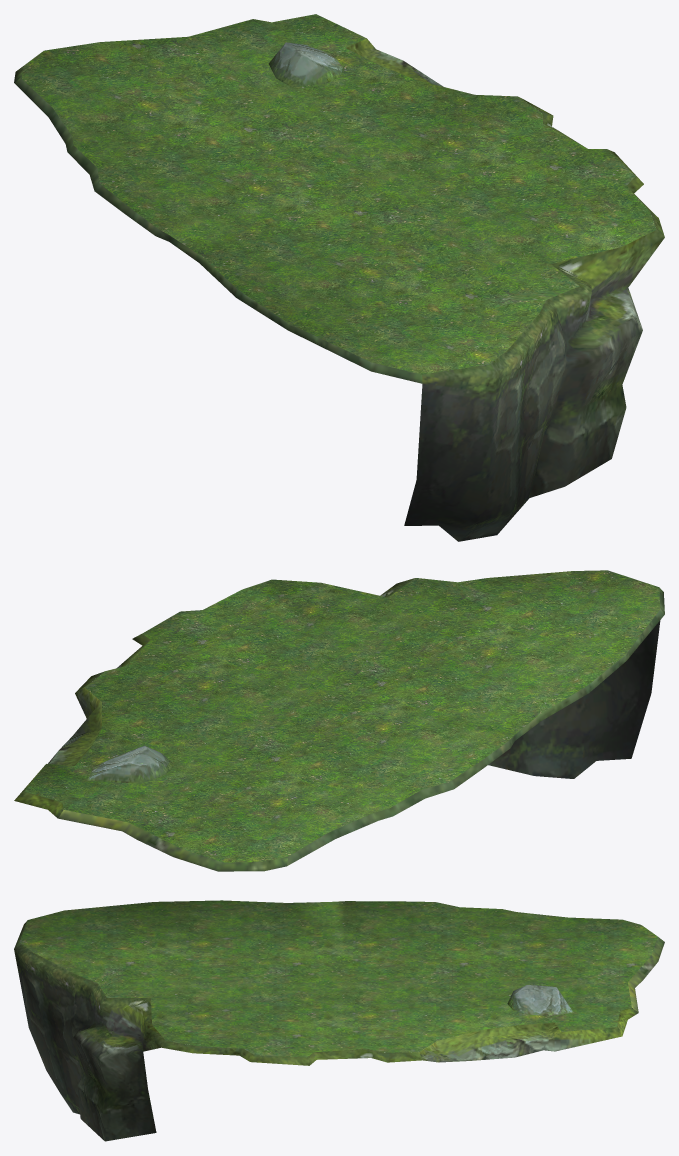
The model's file is S_Rock_Green059_1060_2.fbx.
3 renders of one model, top to bottom at view 1: azimuth 30°, elevation 25°; view 2: azimuth 150°, elevation 25°; view 3: azimuth 270°, elevation 25°, orthographic. The views are drawn at different scales.
Parts seen in each view (by area): view 1: S_Rock_Green059_1060_2; view 2: S_Rock_Green059_1060_2; view 3: S_Rock_Green059_1060_2.
Part boxes in pixels (left/top/right/bottom): S_Rock_Green059_1060_2: left=14, top=14, right=664, bottom=541; S_Rock_Green059_1060_2: left=14, top=570, right=664, bottom=871; S_Rock_Green059_1060_2: left=14, top=900, right=664, bottom=1141.
Bounding box in the file's own units: 1375 × 684 × 2394.
